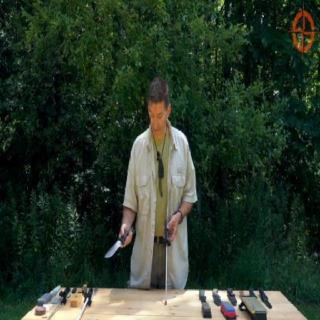knife: (103, 224, 133, 258)
